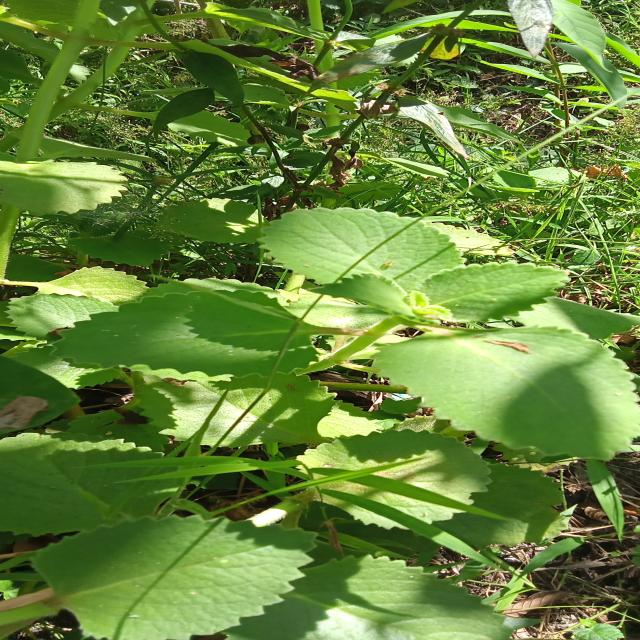Oregano: (251, 205, 578, 326), (32, 509, 332, 640), (367, 323, 640, 466), (52, 274, 342, 386)
